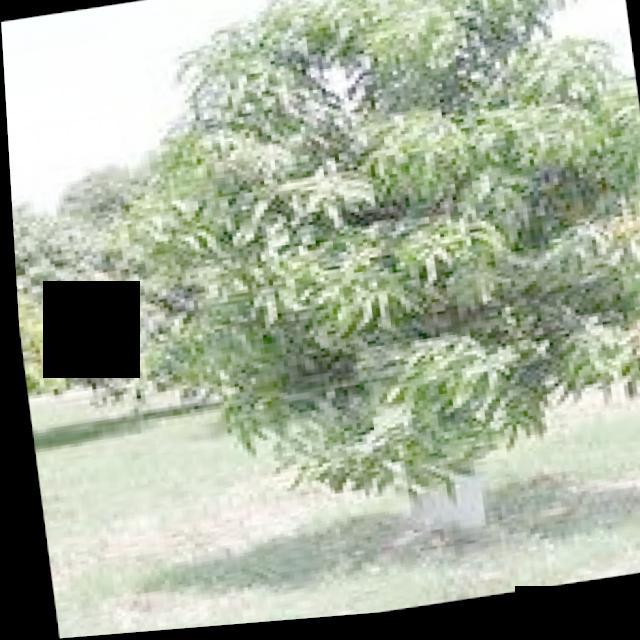Tree: (95, 1, 640, 595)
